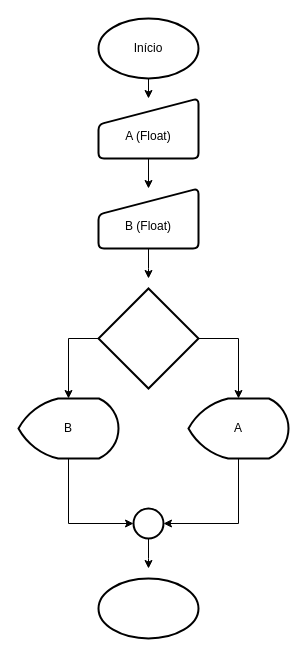
The diagram is 306 pixels wide and 656 high, and some of its shapes have lost their labels. The centre of each missing label's shape, as x and y in pixels:
"A > B" goes at (x=148, y=338).
"Fim" goes at (x=148, y=608).
